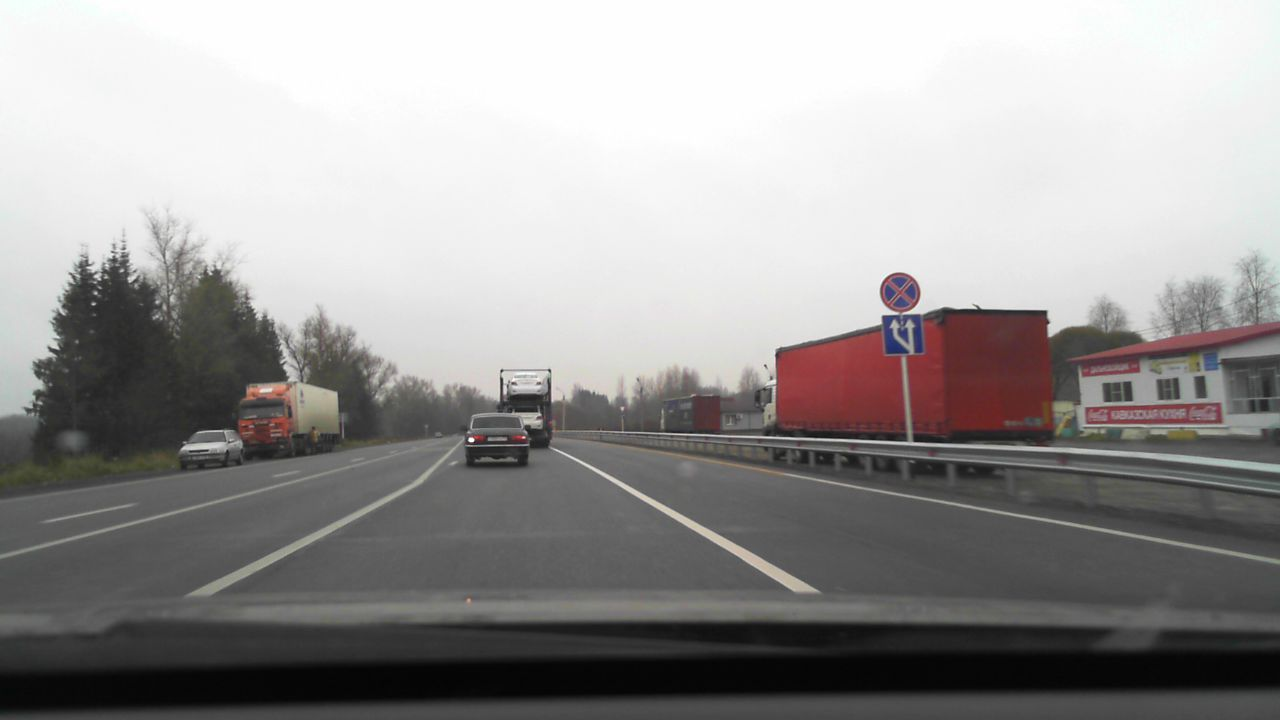No Parking: (879, 272, 921, 312)
